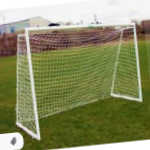goals: (14, 22, 144, 140)
